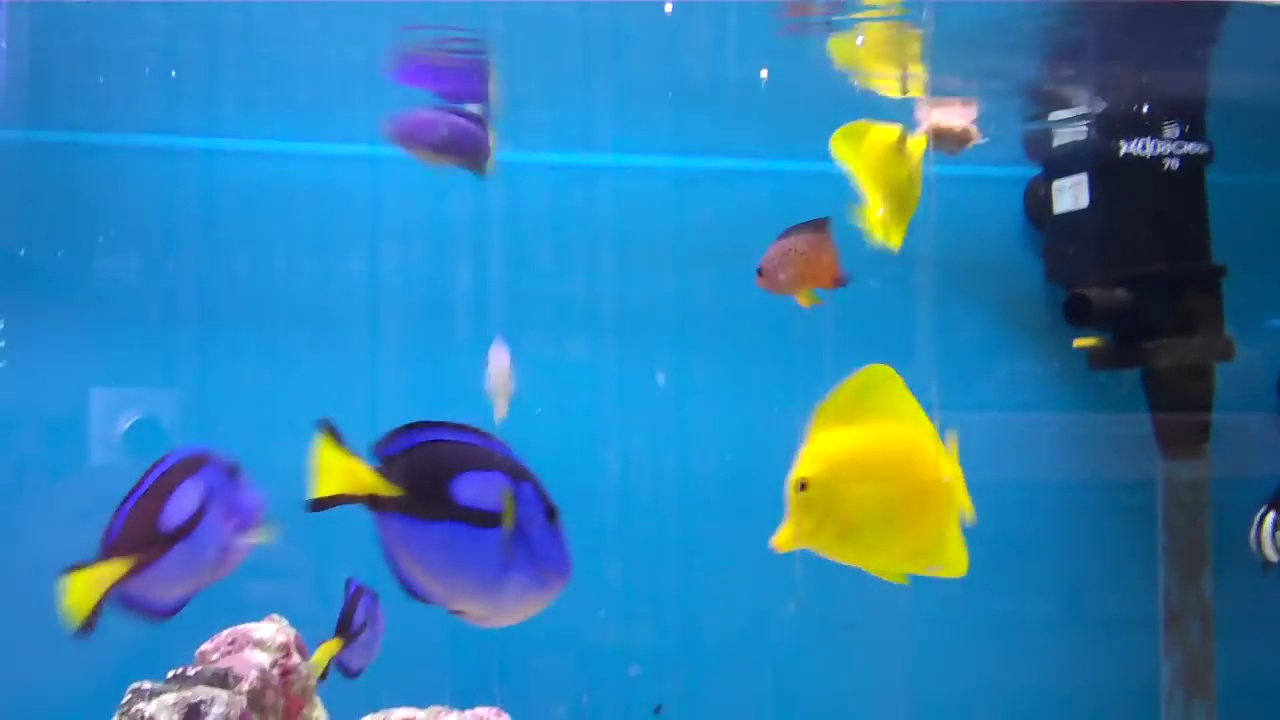blue tang surgeonfish: (302, 398, 572, 627), (59, 436, 267, 639), (295, 580, 394, 693)
saddle butterfly fish: (751, 341, 985, 603), (815, 93, 945, 263)
